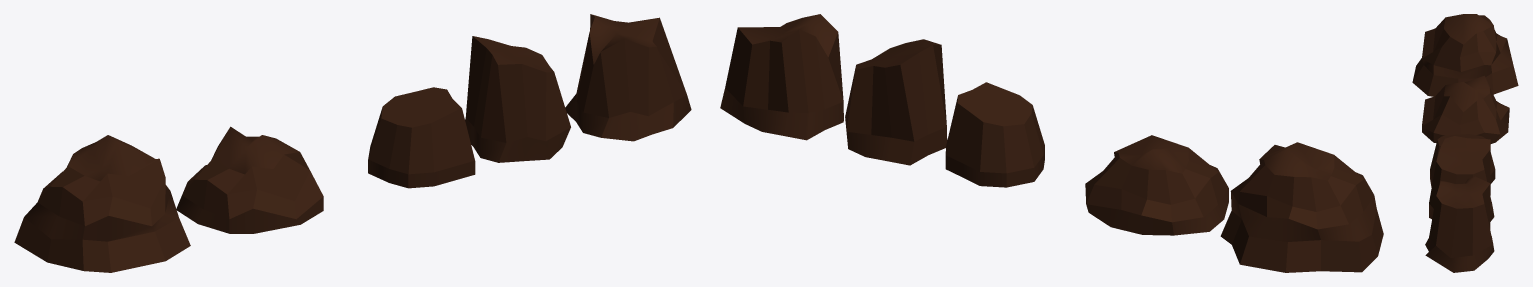
File: Rocks.FBX
3 views of the same model, side by side, from view 1: azimuth 30°, elevation 25°; view 2: azimuth 150°, elevation 25°; view 3: azimuth 270°, elevation 25° (orthographic). The views are drawn at different scales.
Parts seen in each view (by area): view 1: Box004, Box005, Box001, Box003, Box002; view 2: Box004, Box005, Box001, Box003, Box002; view 3: Box004, Box005, Box001, Box003, Box002.
Boxes of the visible parts, x1,y1,x2,y2 form: Box004: (14, 135, 190, 272); Box005: (565, 14, 691, 141); Box001: (176, 126, 323, 233); Box003: (465, 36, 570, 162); Box002: (368, 87, 475, 188); Box004: (1220, 142, 1383, 272); Box005: (720, 14, 843, 140); Box001: (1085, 135, 1228, 235); Box003: (845, 39, 947, 165); Box002: (945, 82, 1044, 187); Box004: (1412, 14, 1518, 96); Box005: (1425, 176, 1494, 272); Box001: (1422, 75, 1509, 143); Box003: (1429, 136, 1494, 221); Box002: (1430, 134, 1495, 187).
Bounding box in the file's own units: 277 × 41.9 × 56.99.
